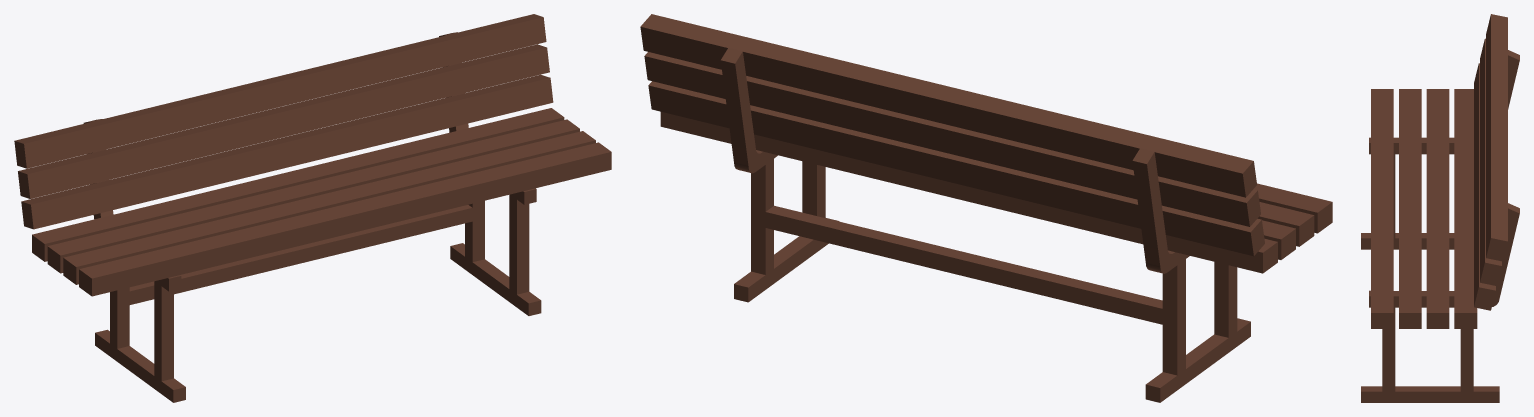
The model's file is Bench.fbx.
3 views of the same model, side by side, from view 1: azimuth 30°, elevation 25°; view 2: azimuth 150°, elevation 25°; view 3: azimuth 270°, elevation 25° (orthographic). The views are drawn at different scales.
Parts seen in each view (by area): view 1: bench_back_planks, bench_seat_planks, bench_metal; view 2: bench_back_planks, bench_metal, bench_seat_planks; view 3: bench_seat_planks, bench_back_planks, bench_metal.
Boxes of the visible parts, <box> form: bench_back_planks: <box>14,14,553,229</box>; bench_seat_planks: <box>32,108,611,296</box>; bench_metal: <box>83,32,541,402</box>; bench_back_planks: <box>640,14,1264,256</box>; bench_metal: <box>720,48,1250,402</box>; bench_seat_planks: <box>660,112,1332,273</box>; bench_seat_planks: <box>1371,89,1477,328</box>; bench_back_planks: <box>1474,14,1507,310</box>; bench_metal: <box>1361,50,1519,402</box>.
Size of the model in its own units: 200 by 82.29 by 59.89.
